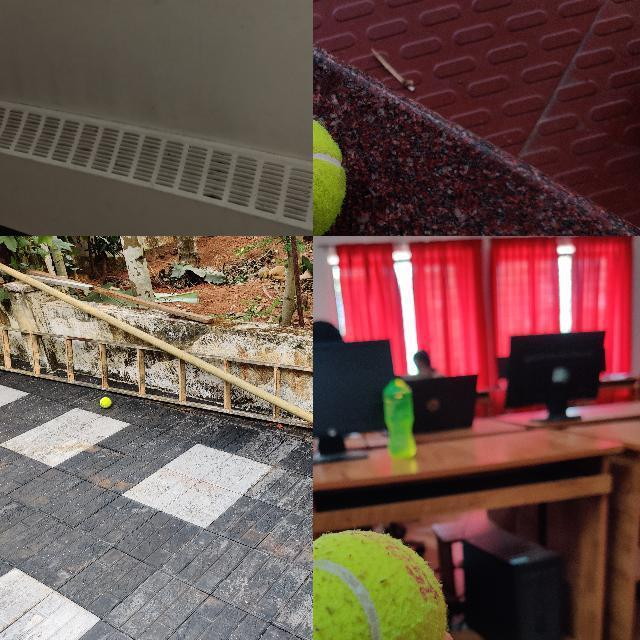tennis-ball: (313, 530, 448, 639), (99, 397, 111, 408)
